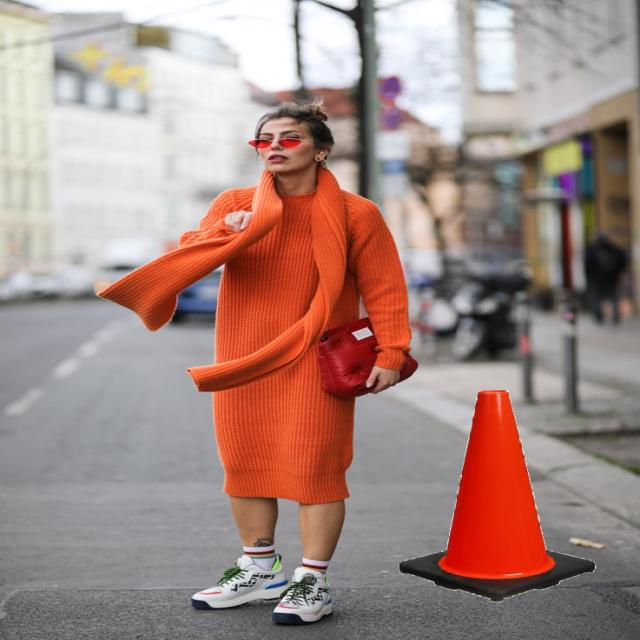traffic cone: (397, 387, 605, 600)
